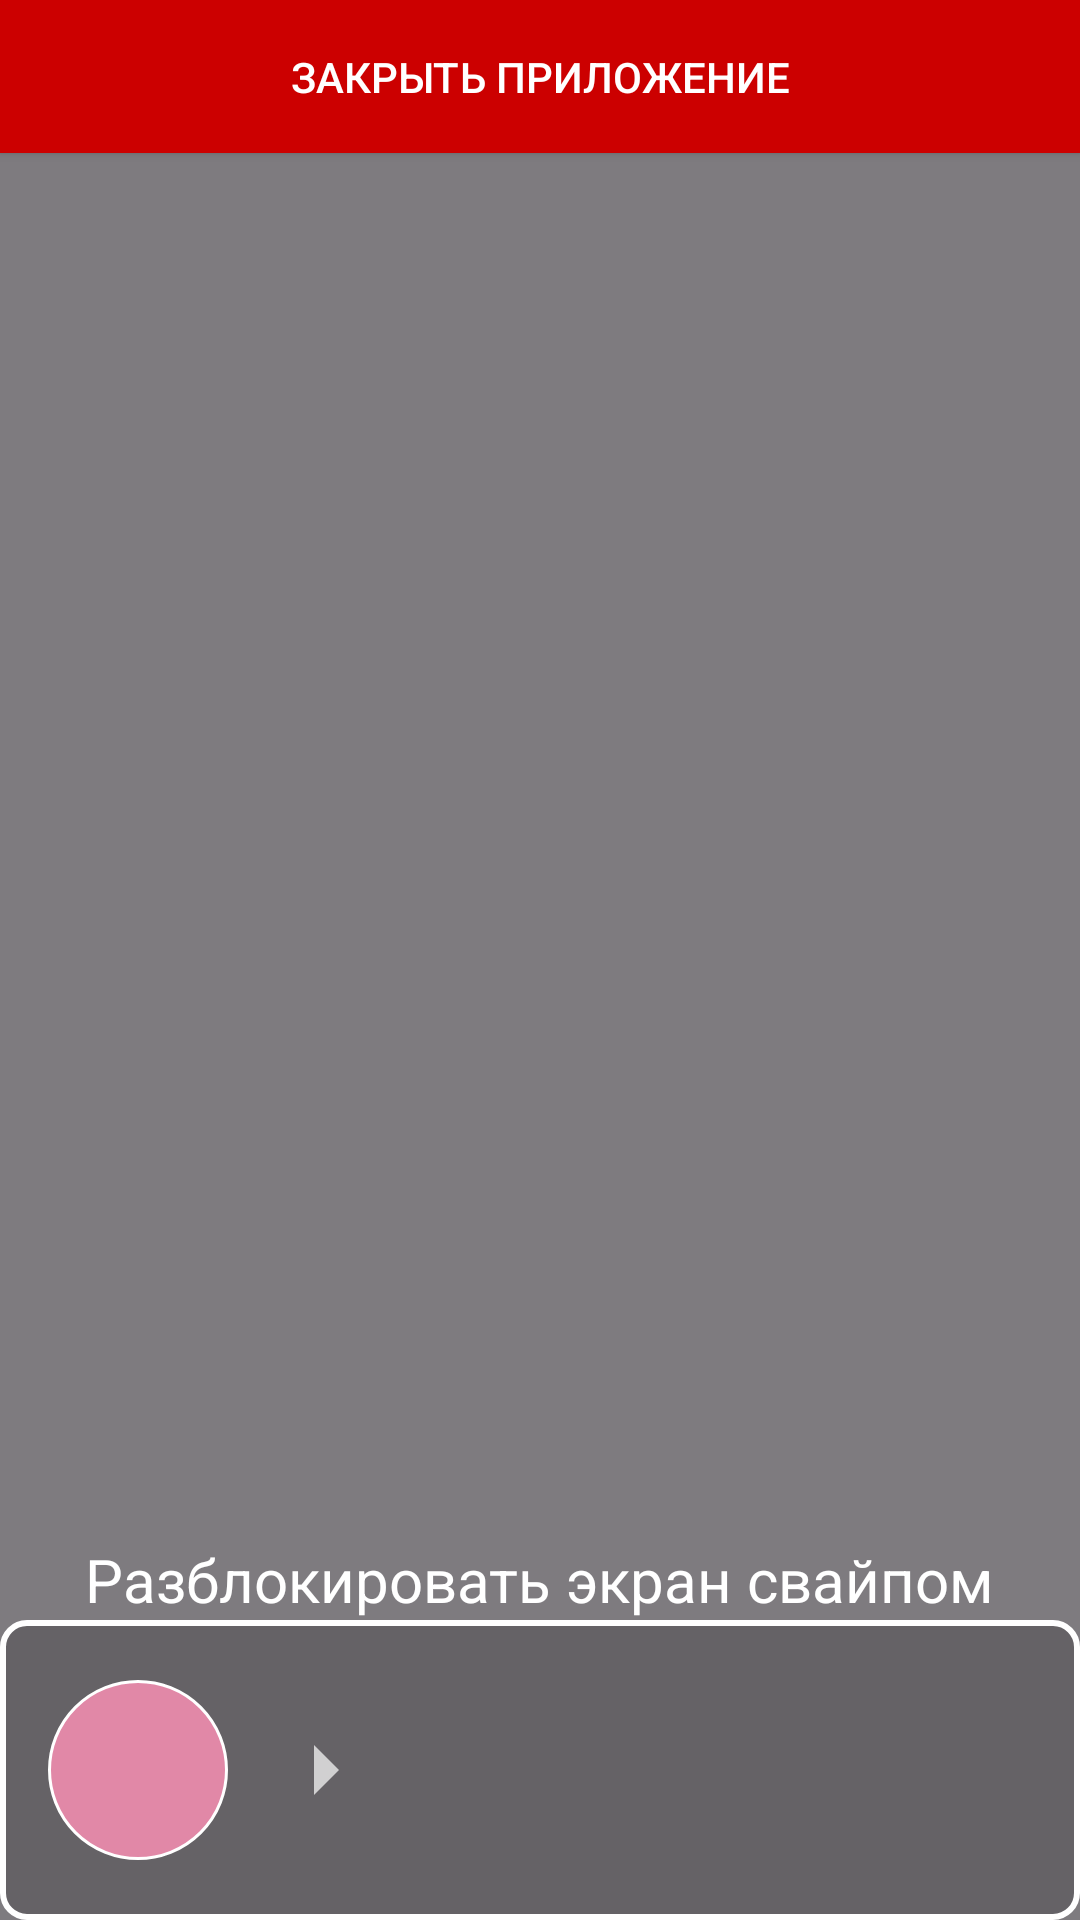

Where icons sit on this 1080w x 1920h app screen, as (x1, y1, x2, y2):
Swipe Right Arrow: (314, 1745, 339, 1795)
